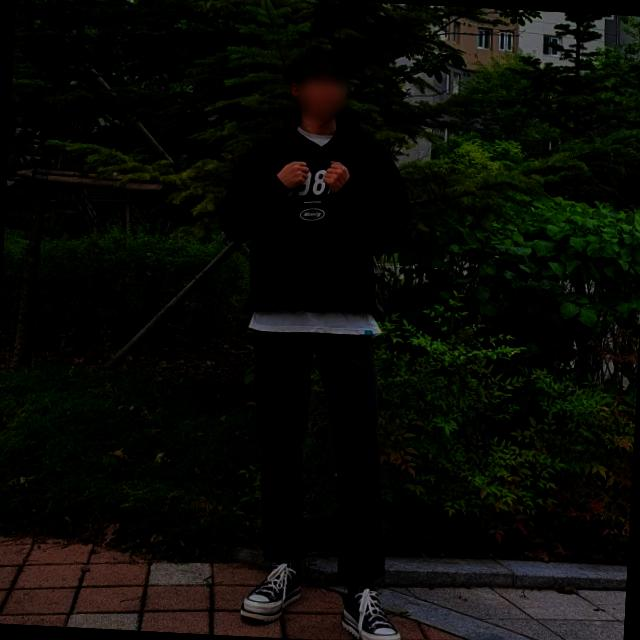denimpants: (244, 327, 401, 583)
hoodies: (214, 100, 420, 318)
